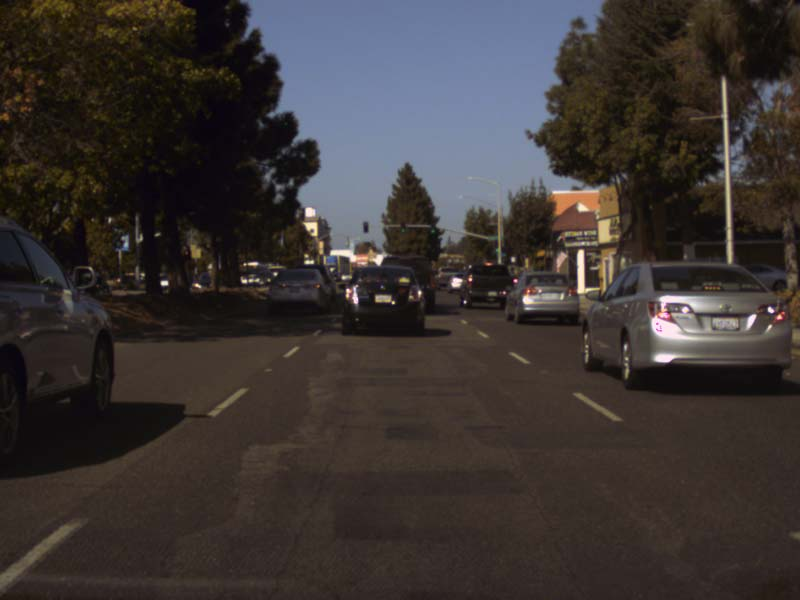Green: (430, 222, 436, 234), (400, 220, 405, 232), (493, 245, 499, 255)
